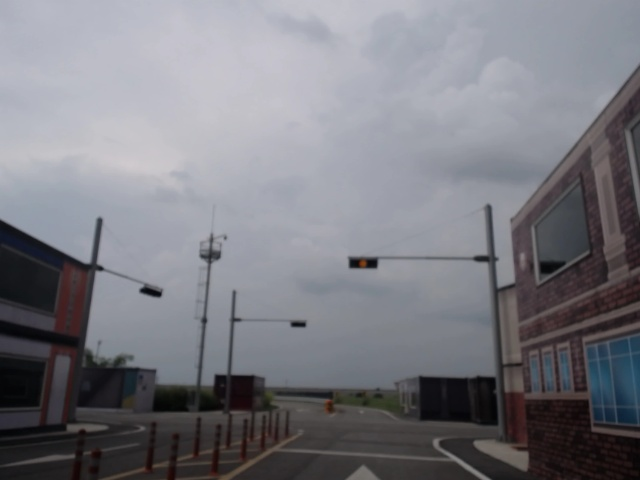orange_3: (349, 257, 377, 268)
